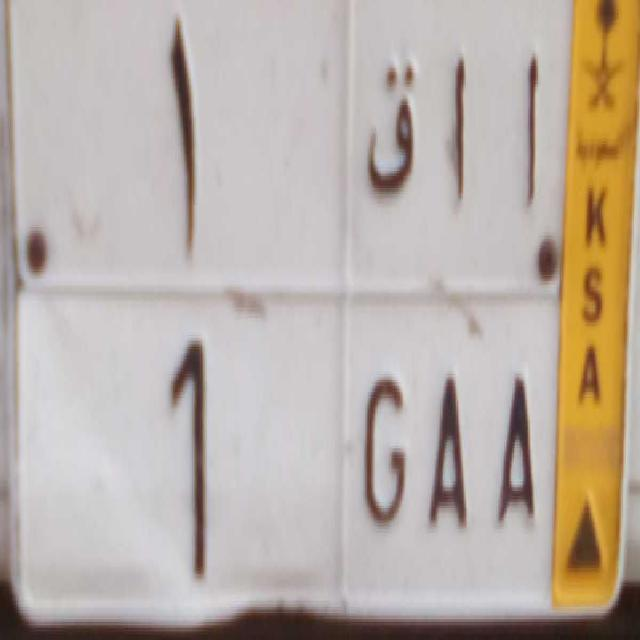license_plate: (5, 268, 553, 640)
